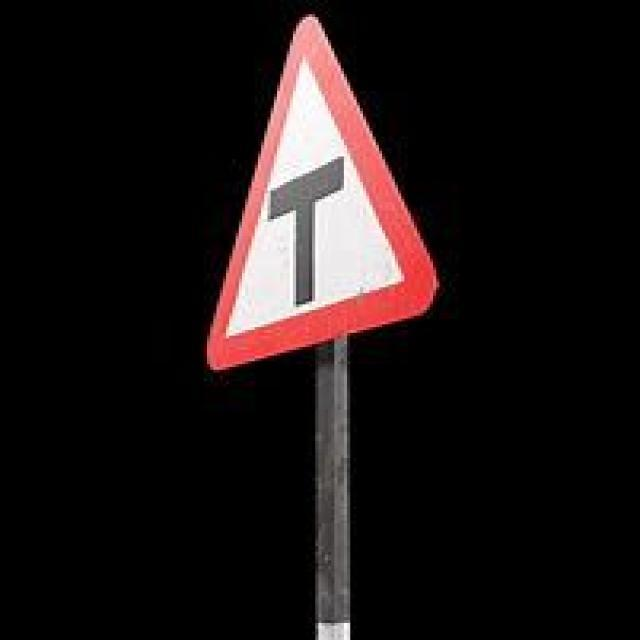t intersection: (198, 18, 469, 378)
